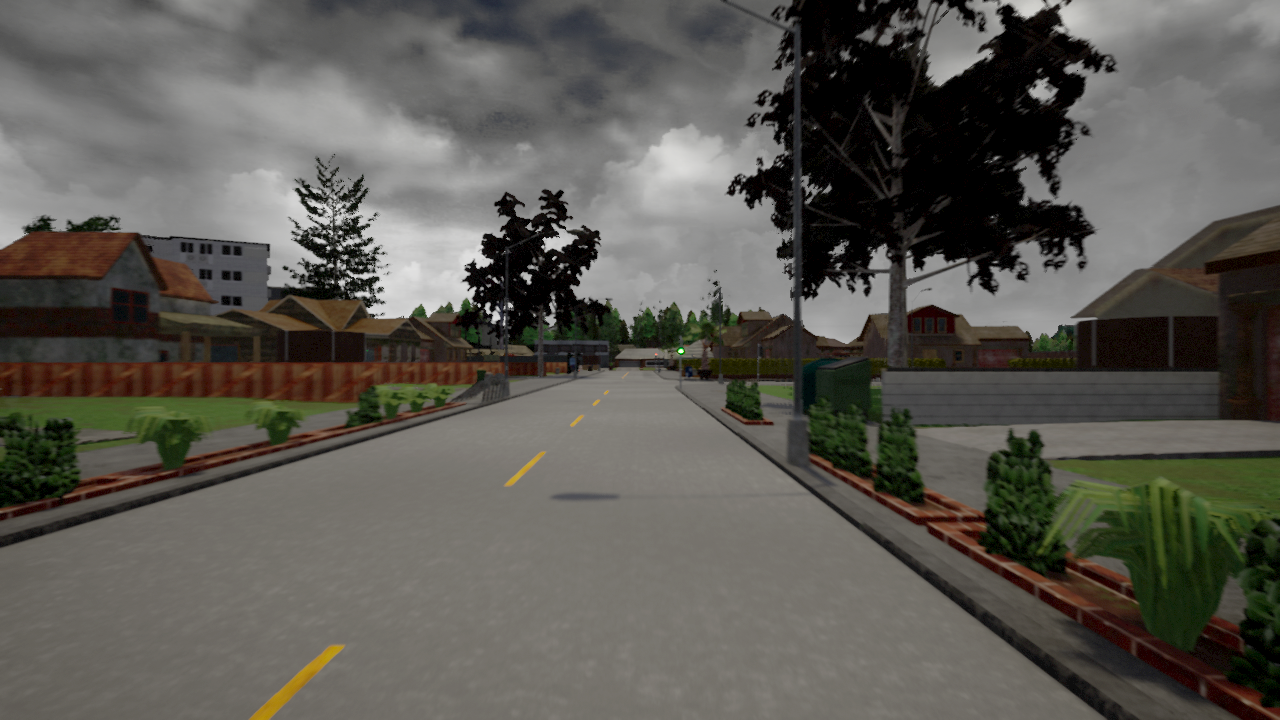green: (677, 338, 685, 356)
